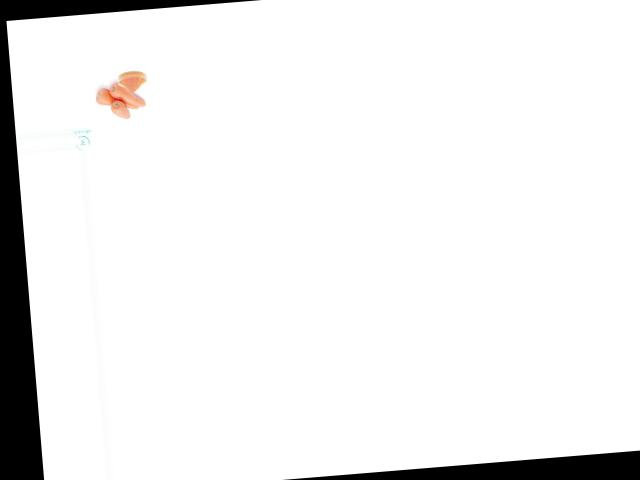carrot: (109, 82, 148, 111)
